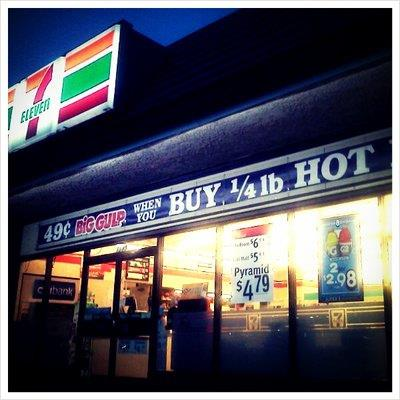seven_eleven: (13, 66, 75, 143)
